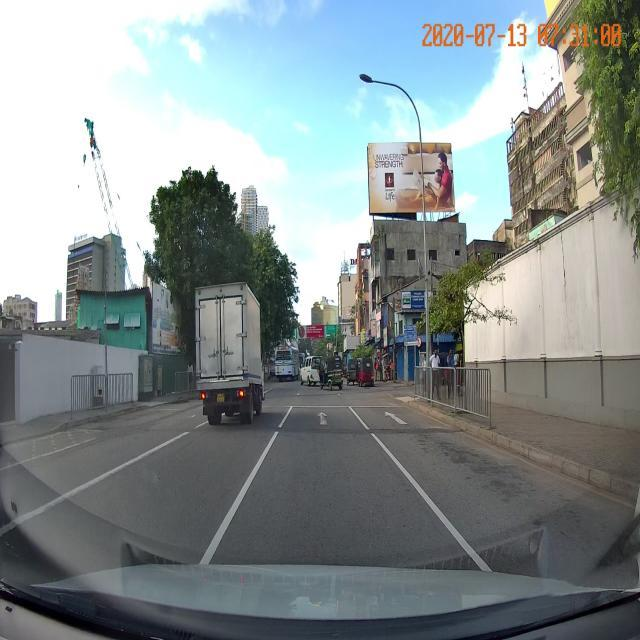forward: (273, 410, 374, 432)
